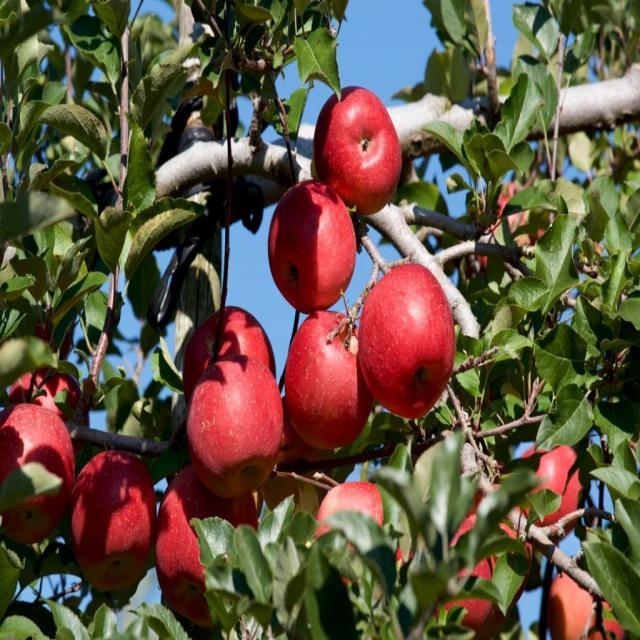Red Apple: (359, 266, 462, 414), (159, 464, 260, 613), (188, 359, 286, 492), (285, 306, 373, 441), (316, 86, 406, 211), (446, 499, 526, 627), (319, 481, 410, 593), (1, 400, 77, 533), (72, 447, 152, 572), (183, 303, 279, 403), (273, 186, 358, 293), (513, 432, 584, 542), (18, 343, 86, 438), (553, 568, 606, 640)
